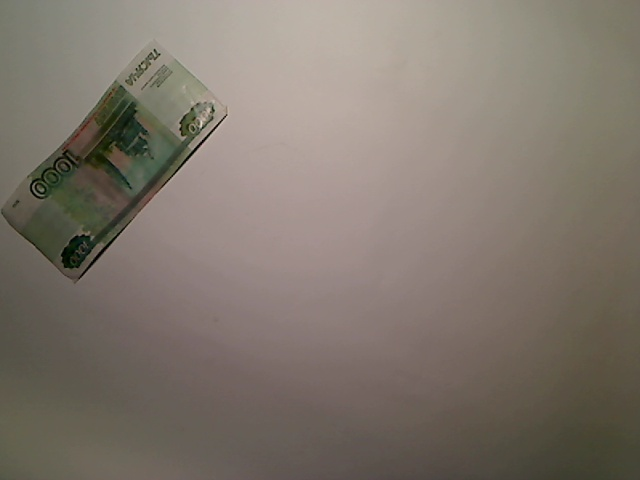banknotes: (1, 33, 230, 288)
